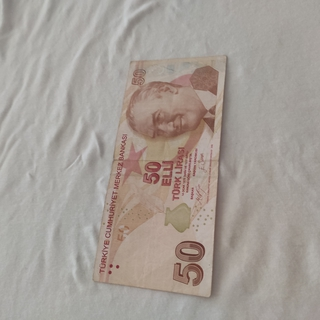50TLFront: (93, 55, 226, 297)
